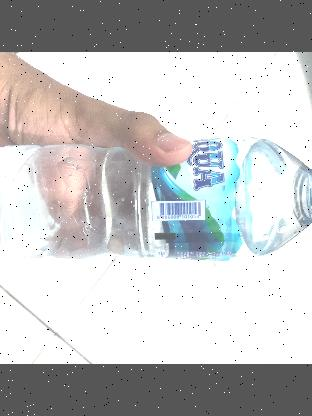Plastic Bottle: (0, 133, 312, 271)
